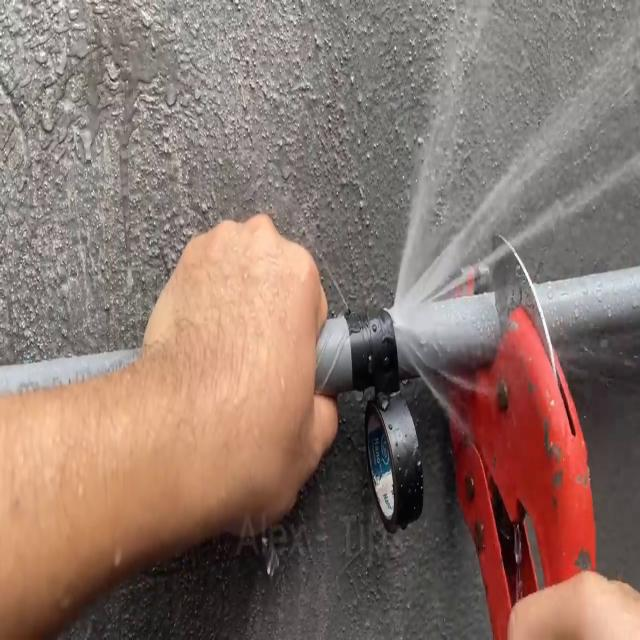leak: (391, 0, 640, 640)
